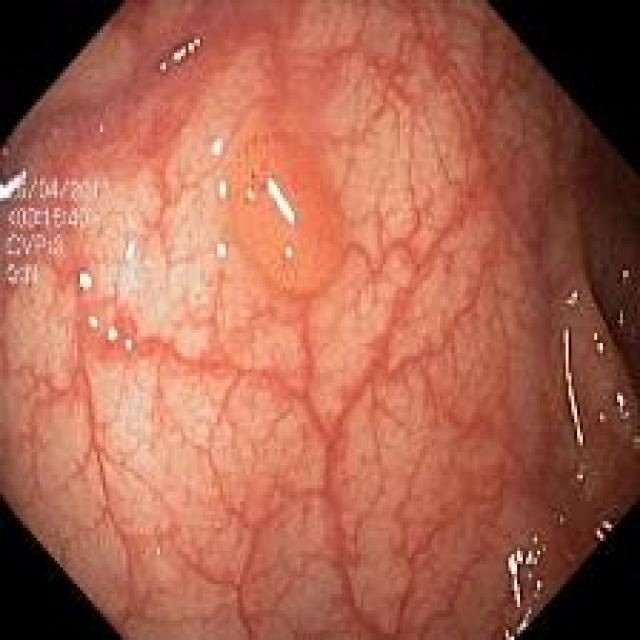Polyps: (216, 102, 342, 295)
